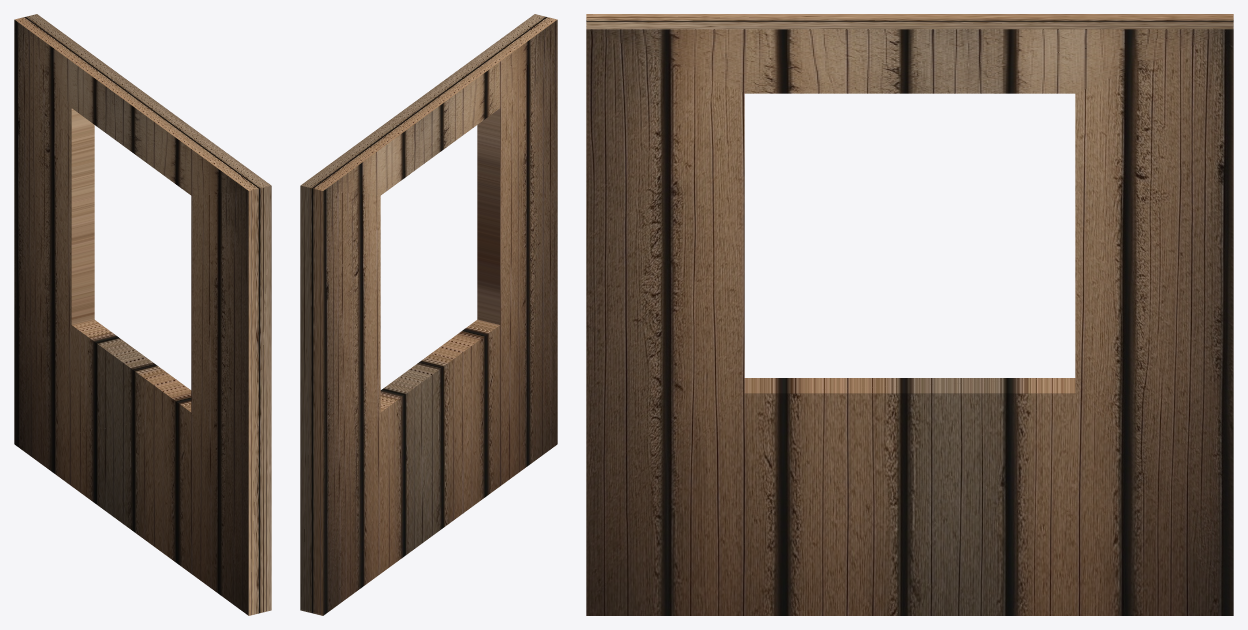
File: WindowV1.fbx
3 views of the same model, side by side, from view 1: azimuth 30°, elevation 25°; view 2: azimuth 150°, elevation 25°; view 3: azimuth 270°, elevation 25° (orthographic). The views are drawn at different scales.
Visible parts, largest first — view 1: Cube.003; view 2: Cube.003; view 3: Cube.003.
Boxes of the visible parts, box(x1,y1,x2,y2) form: Cube.003: box(14, 14, 271, 615); Cube.003: box(300, 14, 557, 615); Cube.003: box(586, 14, 1233, 615).
Bounding box in the file's own units: 3.41 × 60.96 × 60.96.
